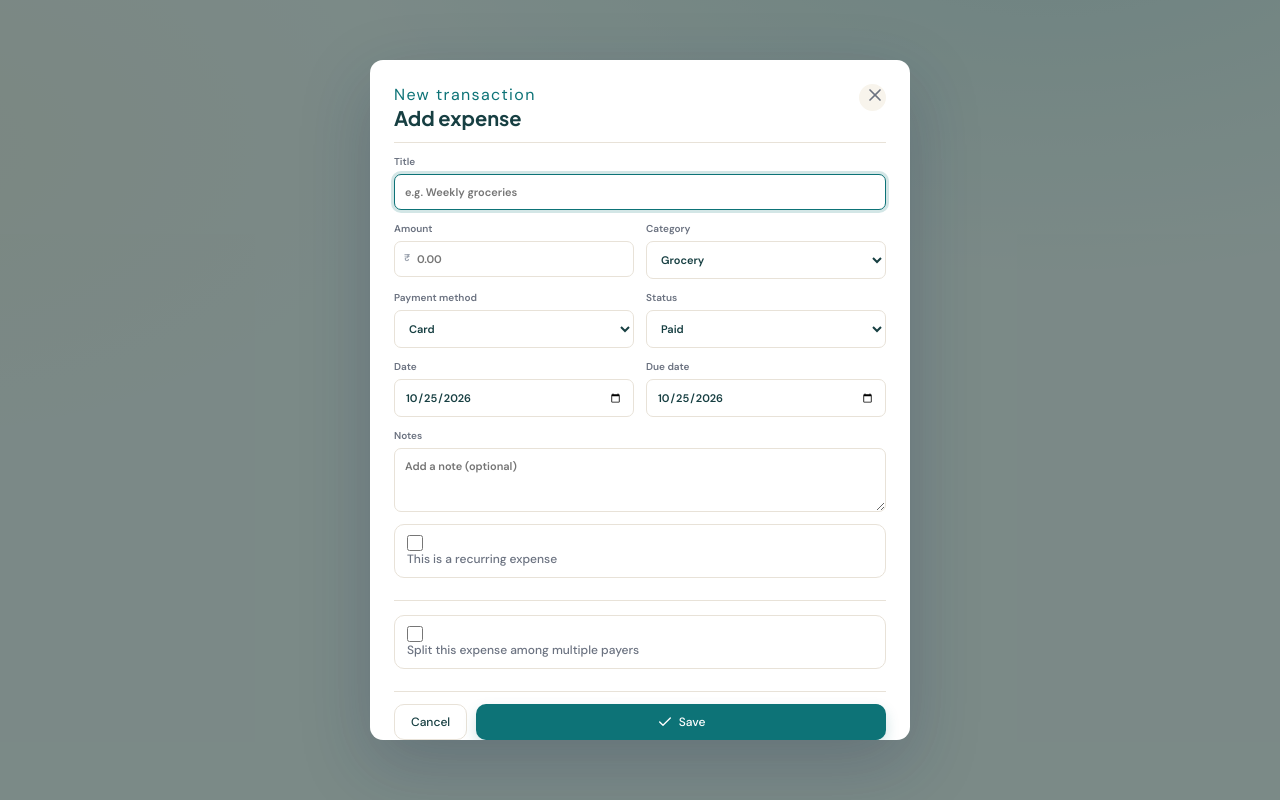
ExpenseModal › adds and removes payer rows
The width and height of the screenshot is (1280, 800).
Click the checkbox labelled "Split this expense among multiple payers" at (415, 634), box [407,626,423,642]
(page scrolled)
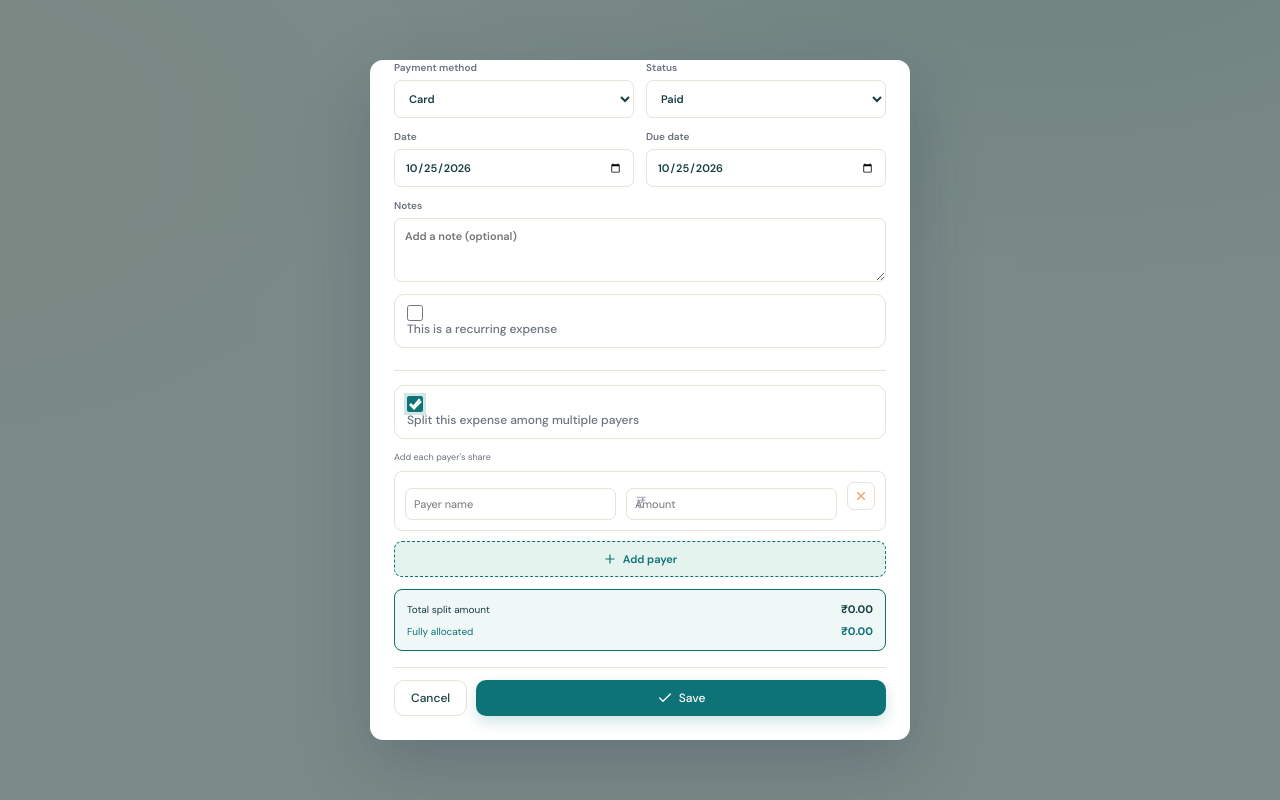
Expected: the number of fields with placeholder "Payer name" is 1, [405,488,616,520]
Click the button "Add payer" at (640, 559), box [394,541,886,577]
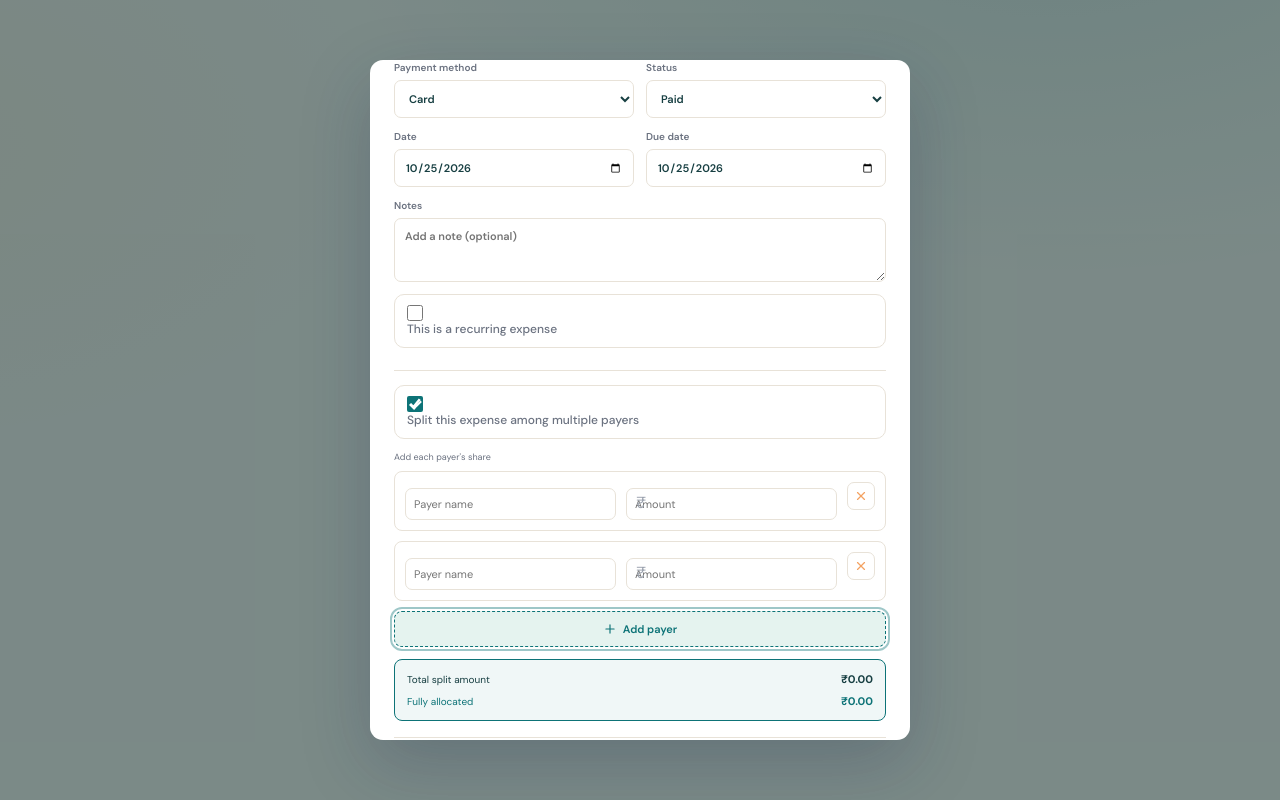
Now the number of fields with placeholder "Payer name" is 2
Type "Alice" into the 1st field with placeholder "Payer name" at (510, 504), box [405,488,616,520]
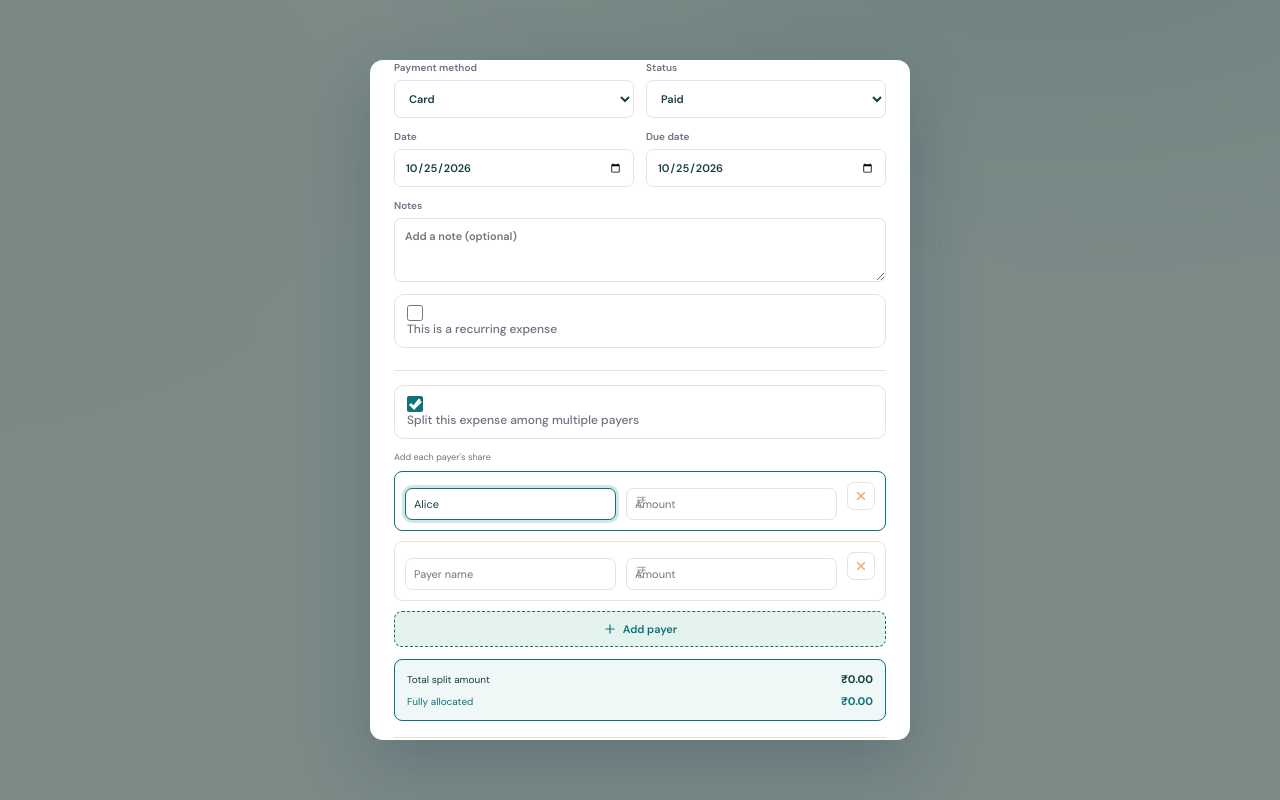
Type "Bob" into the field with placeholder "Payer name" at (510, 574), box [405,558,616,590]
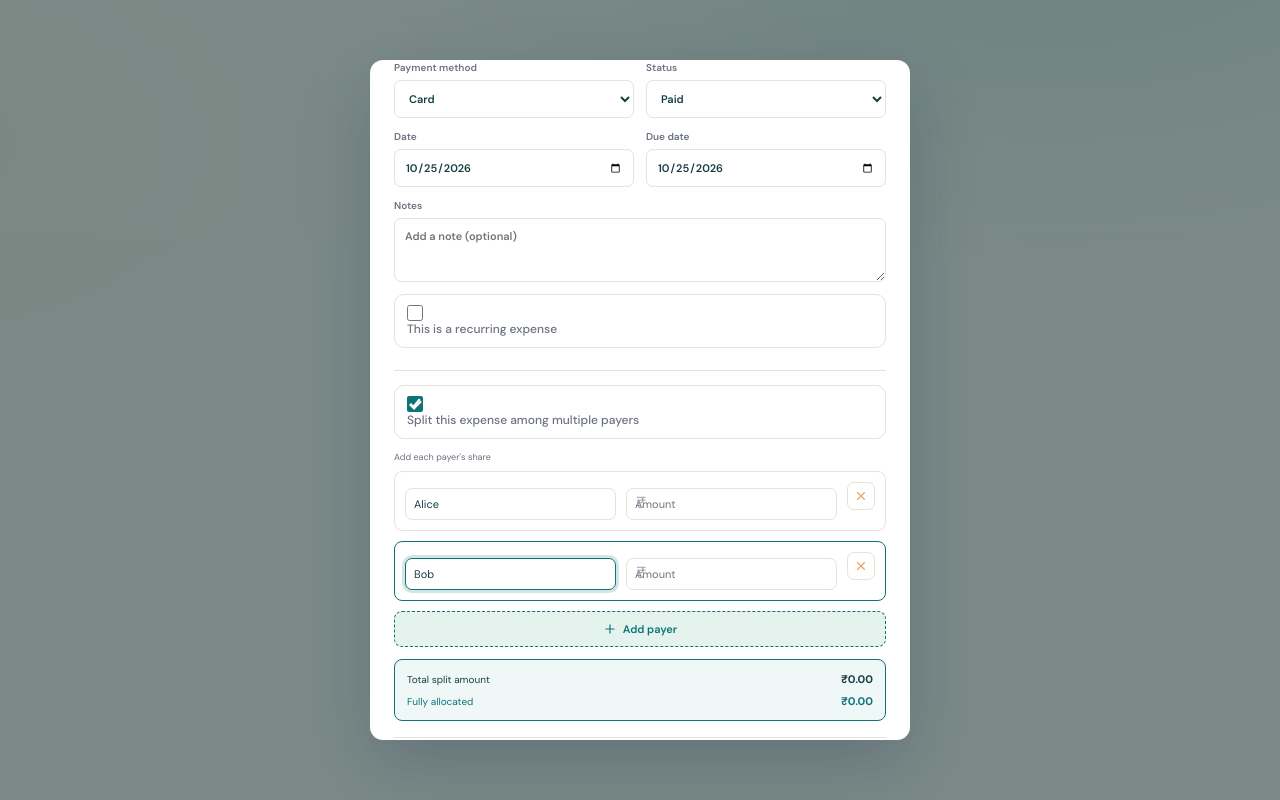
Click the 2nd button named "Remove payer" at (861, 566), box [847,552,875,580]
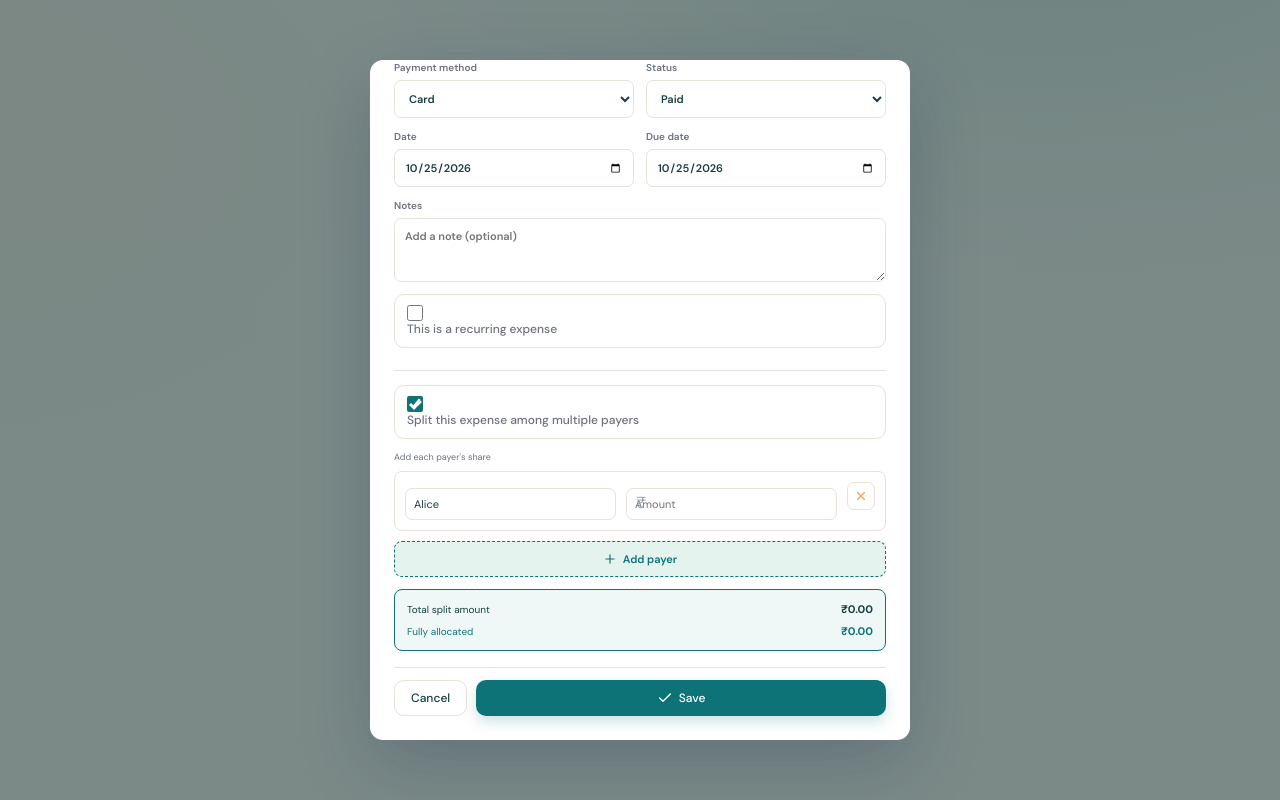
Now the number of fields with placeholder "Payer name" is 1, box [405,488,616,520]
